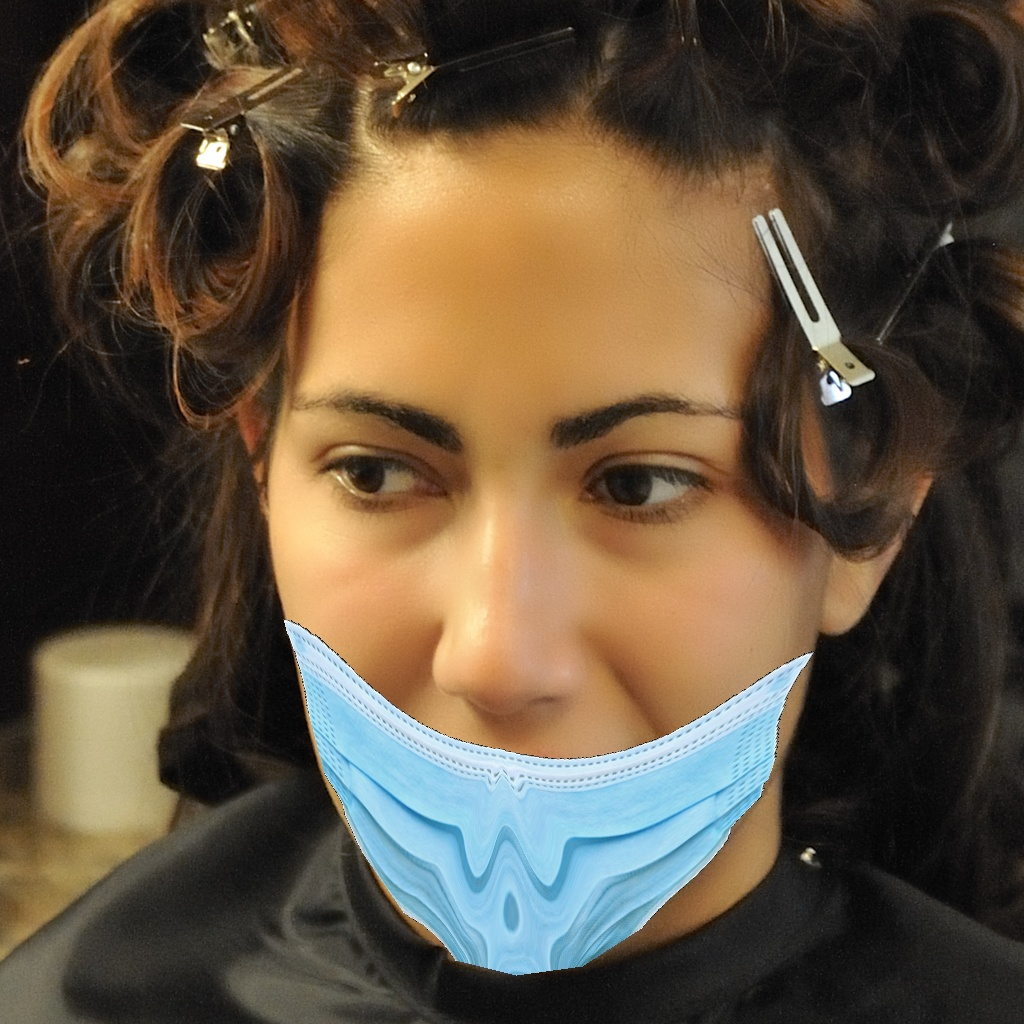mask_weared_incorrect: (229, 355, 856, 991)
